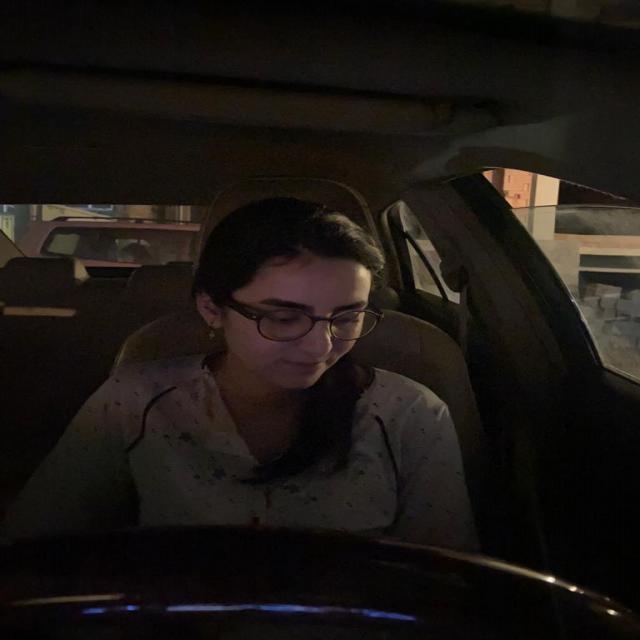person: (185, 194, 398, 397)
